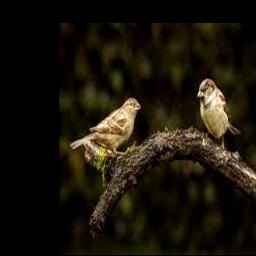Sparrow: (70, 95, 140, 153), (197, 78, 240, 151)
